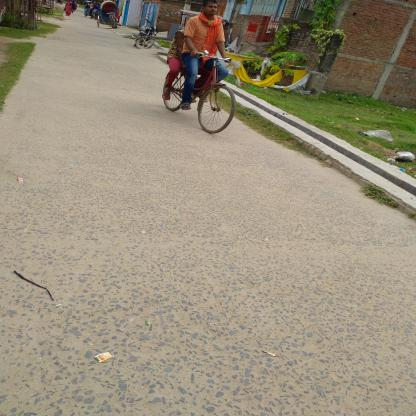bike: (152, 49, 254, 137)
